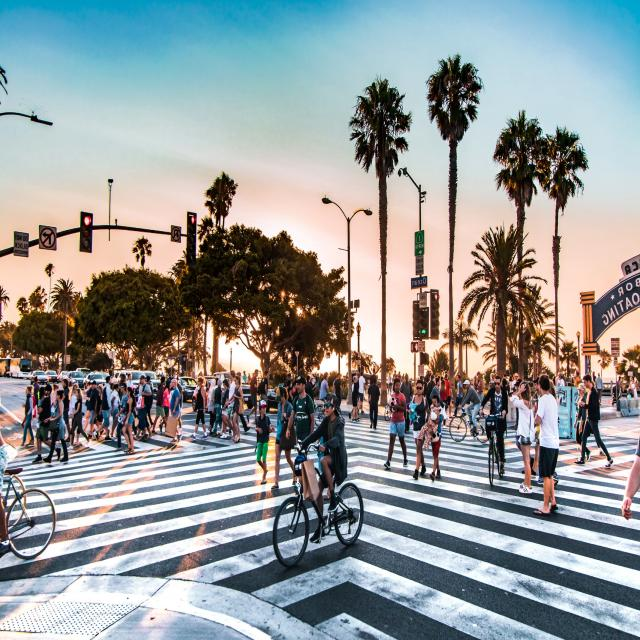adult: (299, 395, 349, 542), (535, 375, 561, 520), (574, 374, 613, 468), (509, 380, 534, 493), (382, 377, 408, 469), (272, 385, 294, 491), (484, 376, 508, 473), (32, 384, 61, 463), (286, 376, 313, 458), (407, 380, 429, 478), (254, 399, 275, 485), (44, 390, 68, 463), (66, 388, 90, 449), (574, 383, 591, 462), (458, 380, 481, 438), (134, 375, 152, 440), (94, 376, 111, 442), (430, 394, 442, 481), (190, 377, 207, 437), (152, 375, 168, 433), (20, 385, 34, 448), (232, 377, 244, 443), (170, 379, 182, 443), (85, 380, 98, 438), (123, 387, 134, 454), (61, 378, 71, 442), (368, 377, 380, 428), (220, 380, 230, 439), (110, 383, 120, 440), (453, 375, 464, 417), (356, 370, 366, 413), (96, 384, 103, 438), (334, 374, 344, 411), (318, 372, 329, 405), (352, 376, 359, 421)
